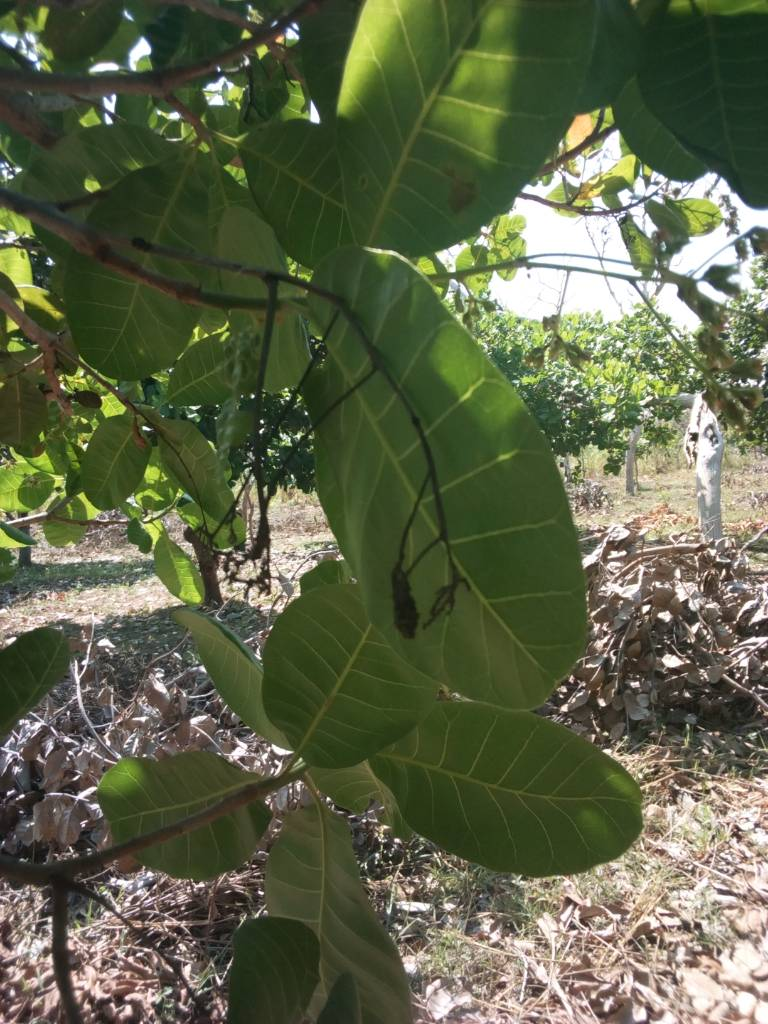Dessèchement des bourgeons: (394, 485, 458, 638), (193, 497, 280, 608)
